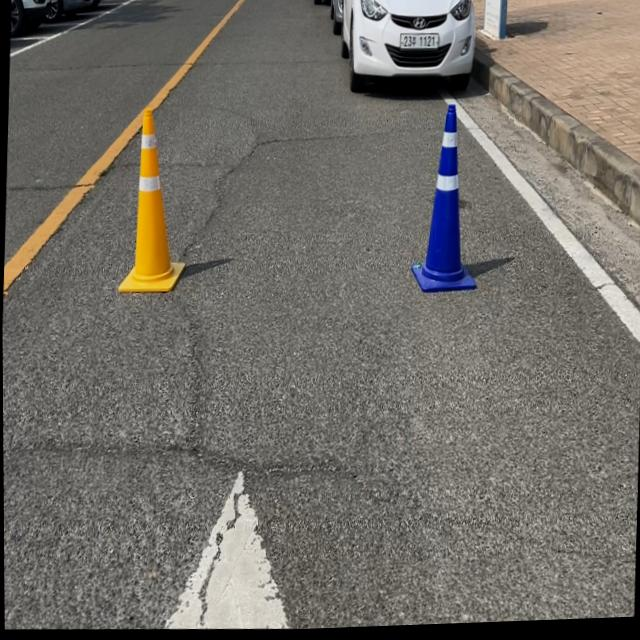b_rub: (411, 102, 476, 294)
y_rub: (117, 107, 184, 292)
